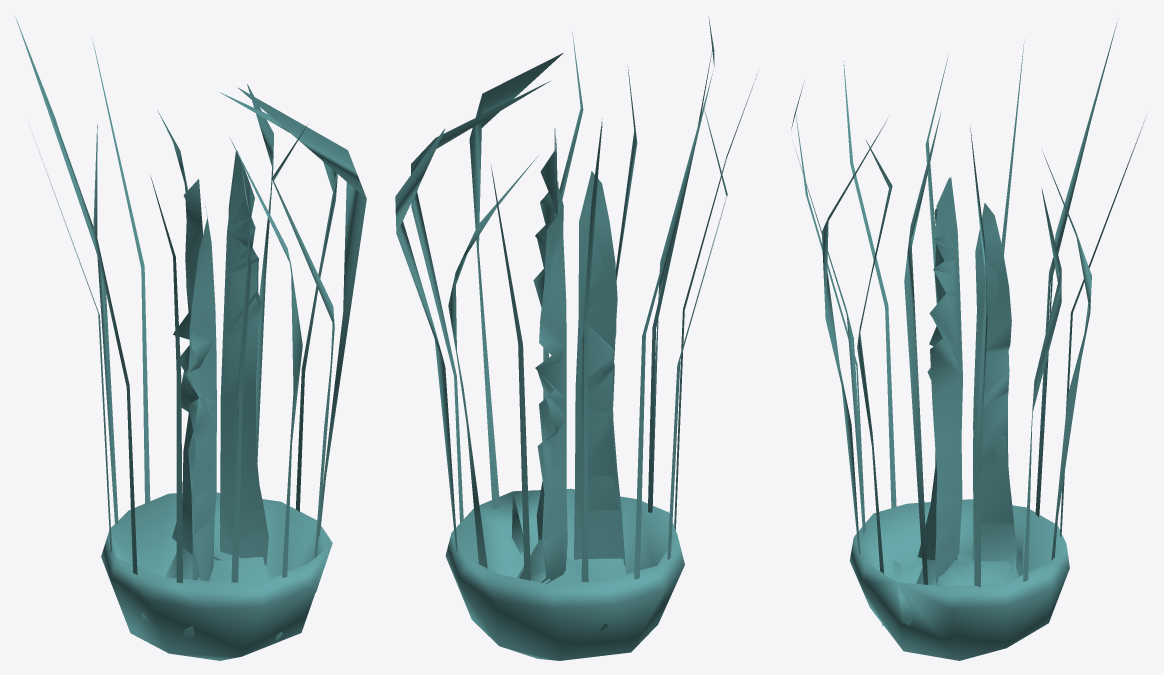
The model's file is jelly.glb.
3 views of the same model, side by side, from view 1: azimuth 30°, elevation 25°; view 2: azimuth 150°, elevation 25°; view 3: azimuth 270°, elevation 25° (orthographic). The views are drawn at different scales.
Parts seen in each view (by area): view 1: Object_23; view 2: Object_23; view 3: Object_23.
Boxes of the visible parts, x1,y1,x2,y2 form: Object_23: [15, 17, 366, 660]; Object_23: [395, 16, 755, 660]; Object_23: [791, 22, 1144, 660].
Bounding box in the file's own units: 0.5145 × 0.9928 × 0.5617.
